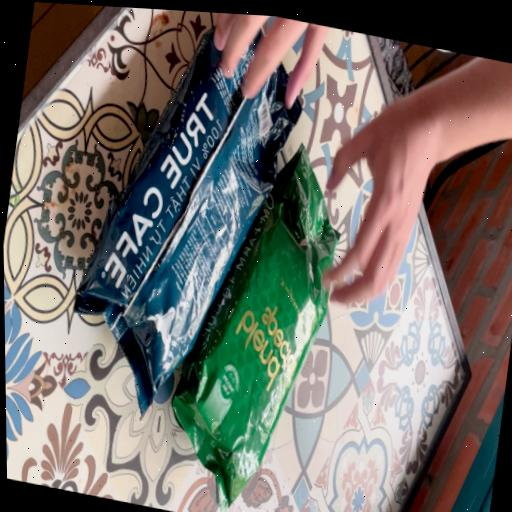cafe_hat: (73, 32, 301, 413)
cafe_xay: (172, 145, 338, 509)
